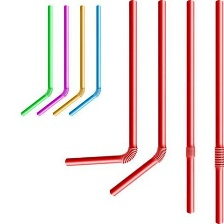drinking_straw: (60, 0, 141, 172), (106, 0, 169, 200), (11, 2, 54, 118), (180, 0, 200, 216), (210, 0, 224, 224)
